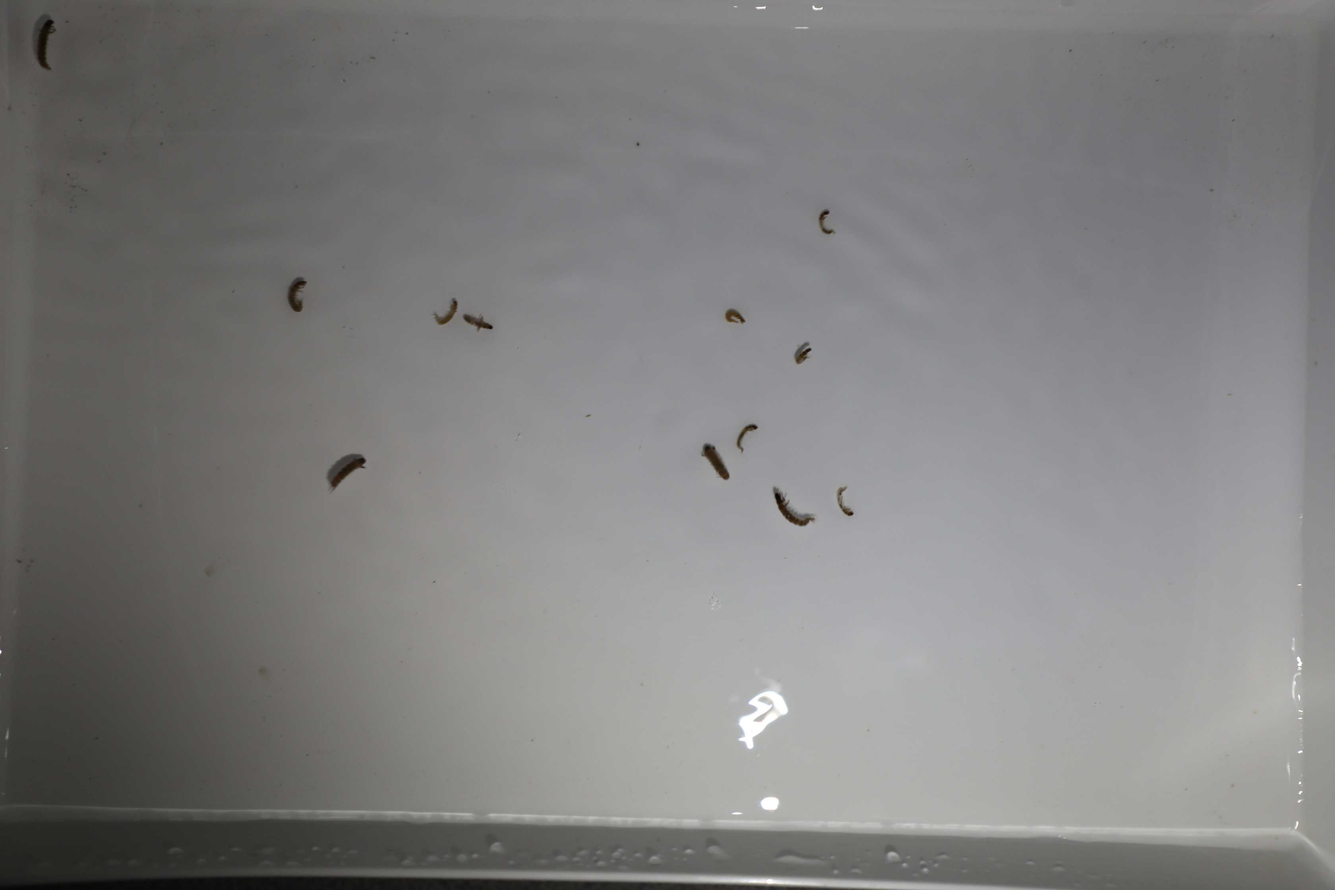Cadisfly: (28, 13, 61, 78), (771, 482, 816, 528), (324, 454, 373, 494), (829, 482, 859, 522), (700, 446, 733, 482), (282, 277, 309, 319), (733, 416, 765, 449), (433, 297, 461, 327), (789, 342, 814, 373), (816, 205, 837, 239), (462, 312, 500, 330), (722, 307, 746, 330)
